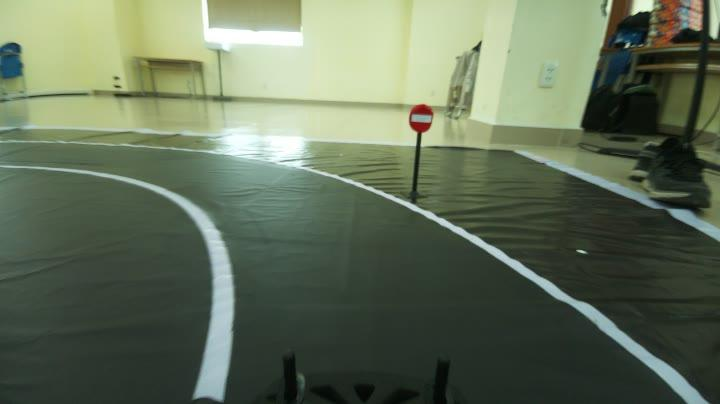no_entry: (402, 96, 436, 136)
